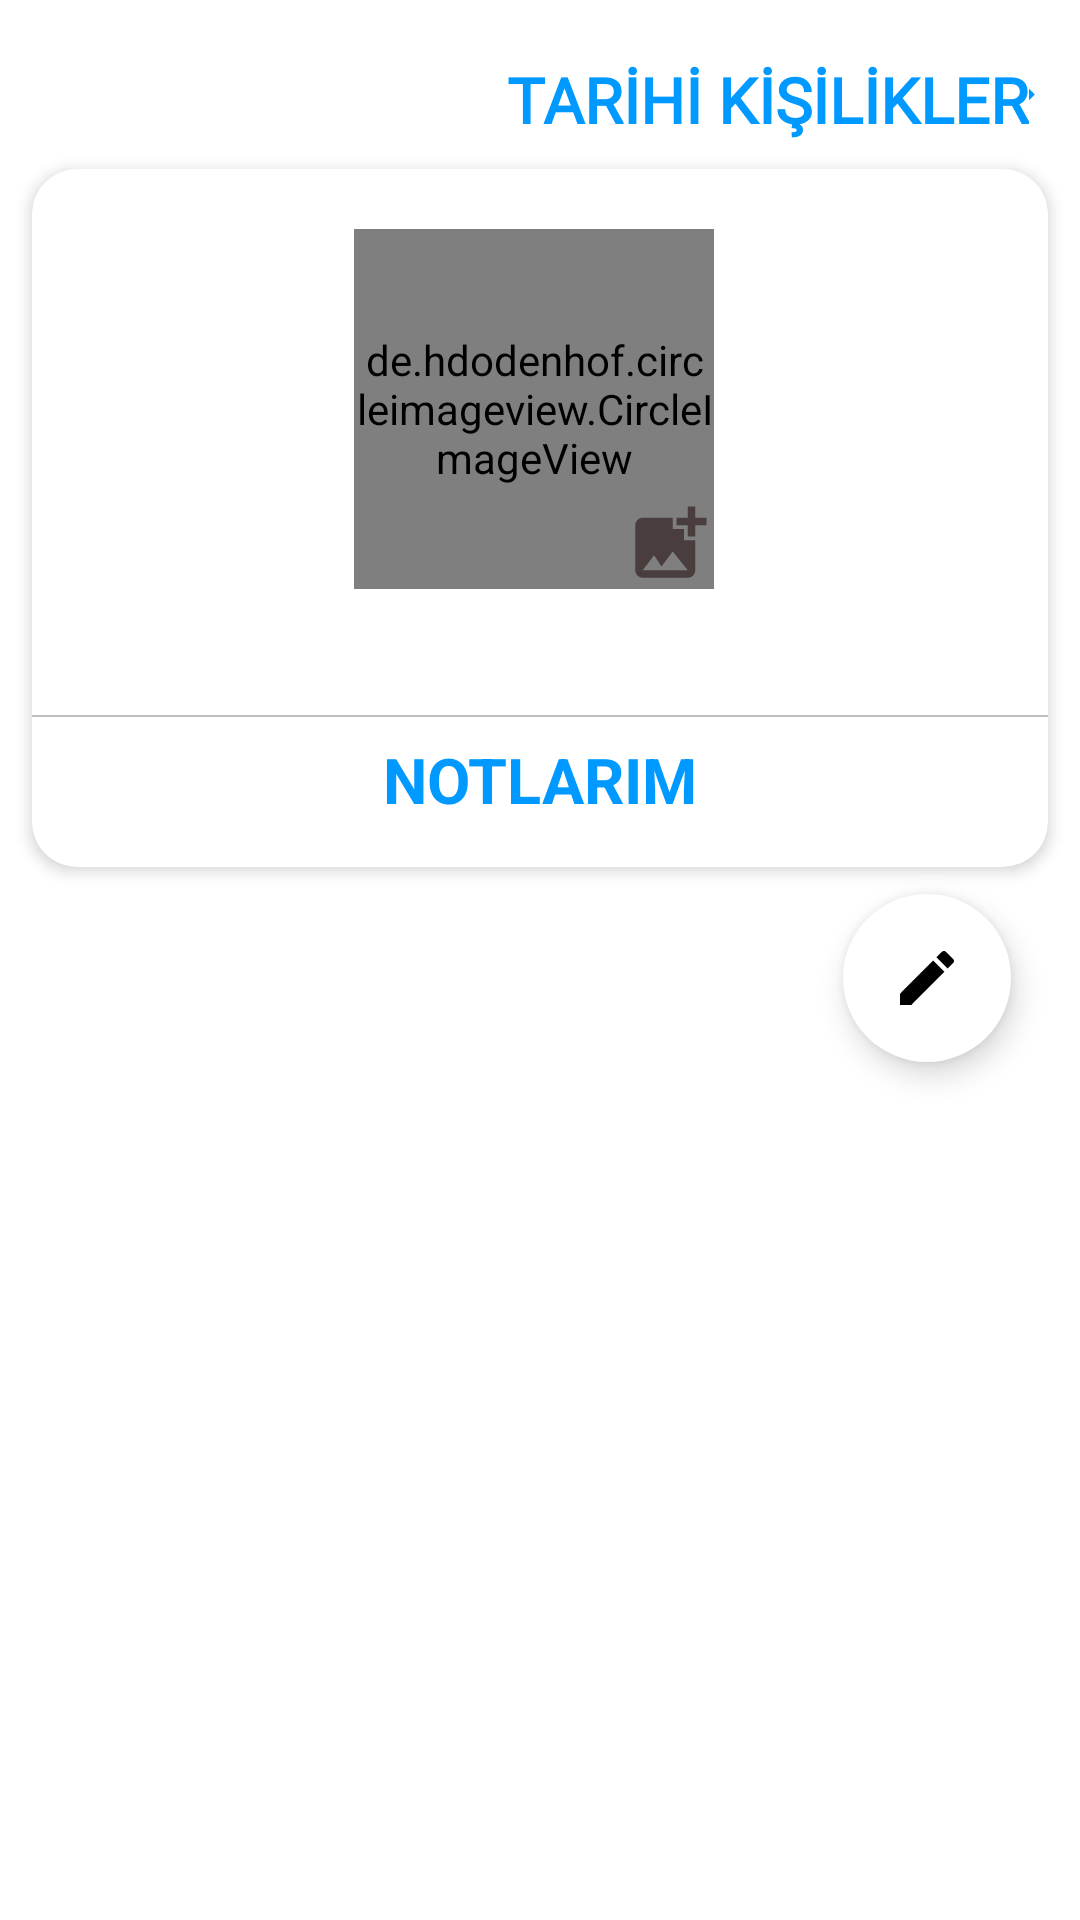

Icon bounding boxes for this 1080px x 1920px phone screenshot, format (x1, y1, x2, y2):
write: (858, 951, 1011, 1028)
